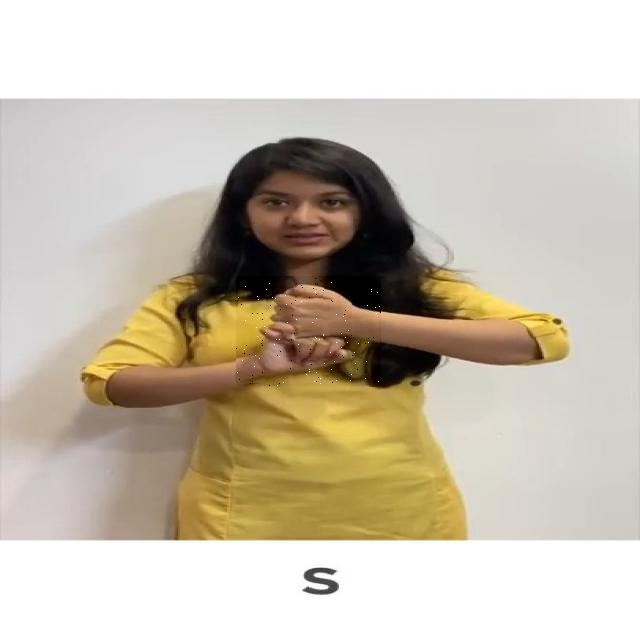S: (236, 276, 381, 386)
